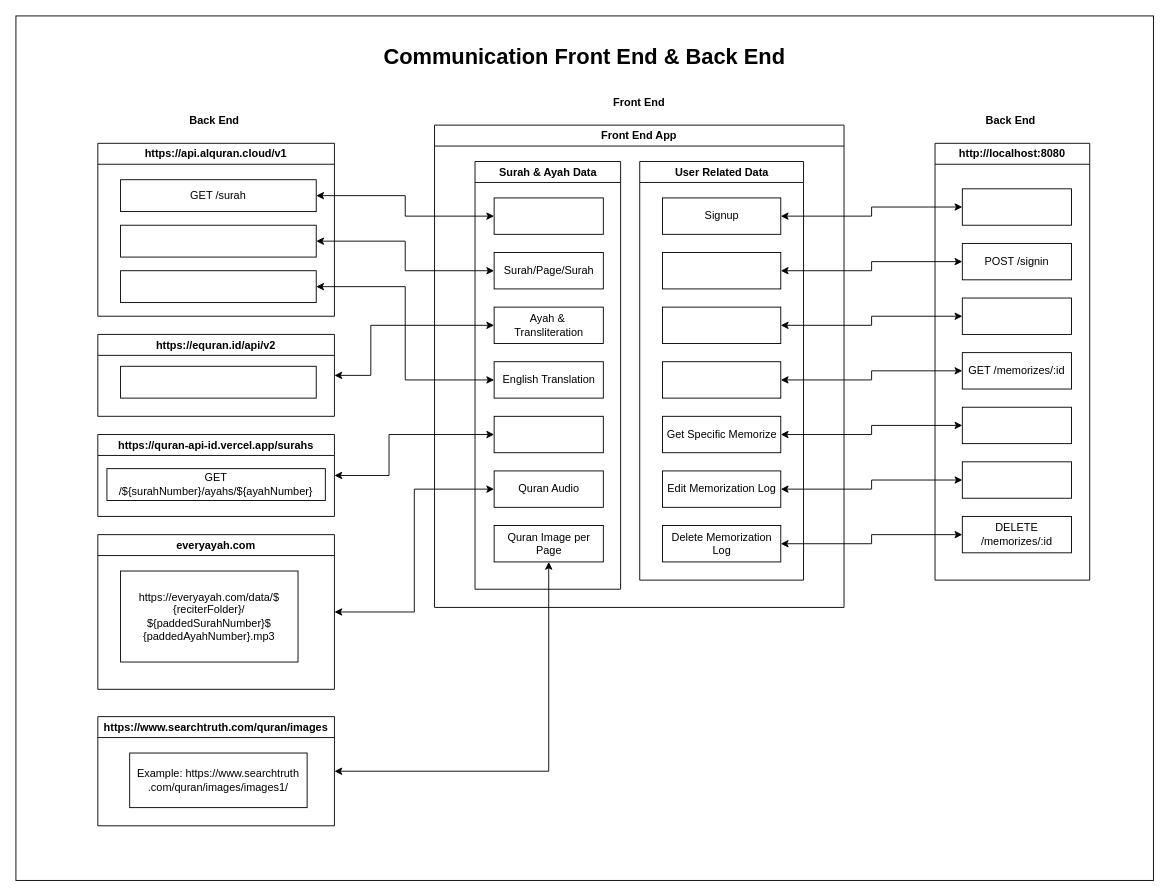
Some shapes in this 1169 by 896 pixel diagram are drawn without their labels. The shapes that lost their labels are listed below. From the top down, each one's centre as x and y in pixels, then its label:
At [548,215]: "Surah Name".
At [1016,206]: "POST /users".
At [218,240]: "GET /page/${pageNumber}".
At [218,286]: "GET /surah/${surahNumber}/en.asad".
At [721,270]: "Login".
At [721,325]: "All Memorization Log".
At [1016,315]: "GET /memorizes".
At [218,381]: "GET /surat/${surahNumber}".
At [721,379]: "Add Memorization Log".
At [548,434]: "Indonesian Translation".
At [1016,425]: "POST /memorizes".
At [1016,479]: "PUT /memorizes/:id".
